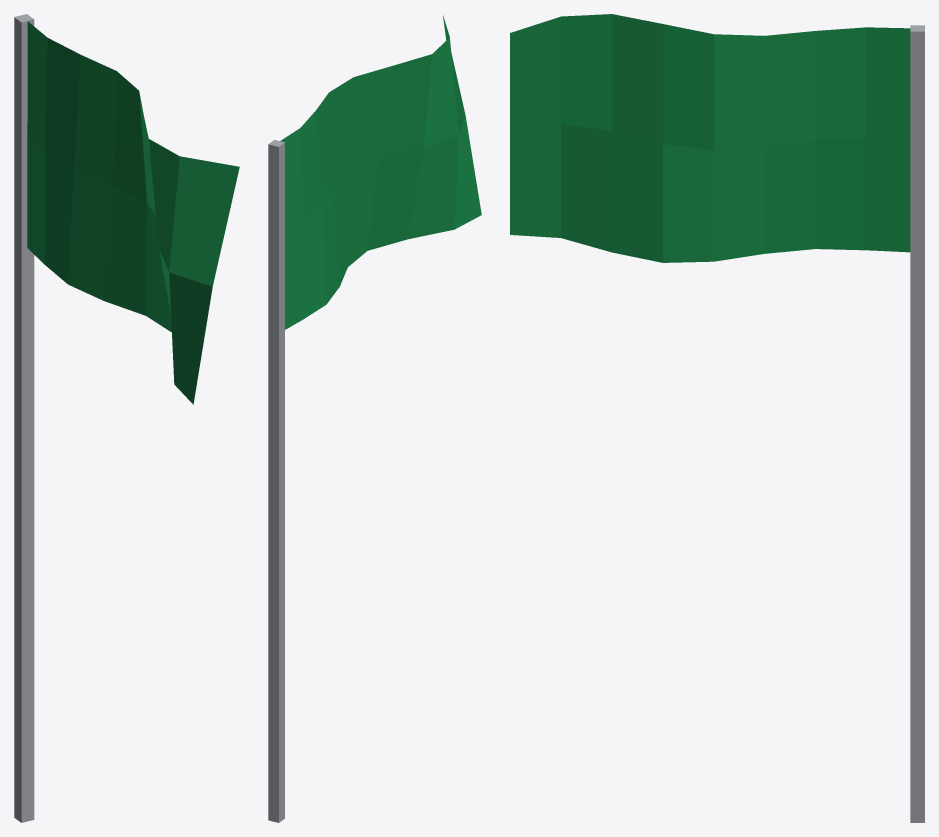
File: mastro_1.glb
3 views of the same model, side by side, from view 1: azimuth 30°, elevation 25°; view 2: azimuth 150°, elevation 25°; view 3: azimuth 270°, elevation 25° (orthographic). The views are drawn at different scales.
Visible parts, largest first — view 1: cor, aco; view 2: cor, aco; view 3: cor, aco.
Part boxes in pixels (<box>): cor: <box>27,21,239,404</box>; aco: <box>14,14,34,822</box>; cor: <box>280,15,481,329</box>; aco: <box>268,140,284,822</box>; cor: <box>510,14,910,262</box>; aco: <box>910,25,924,822</box>.
Size of the model in its own units: 0.4555 by 6 by 2.85.
